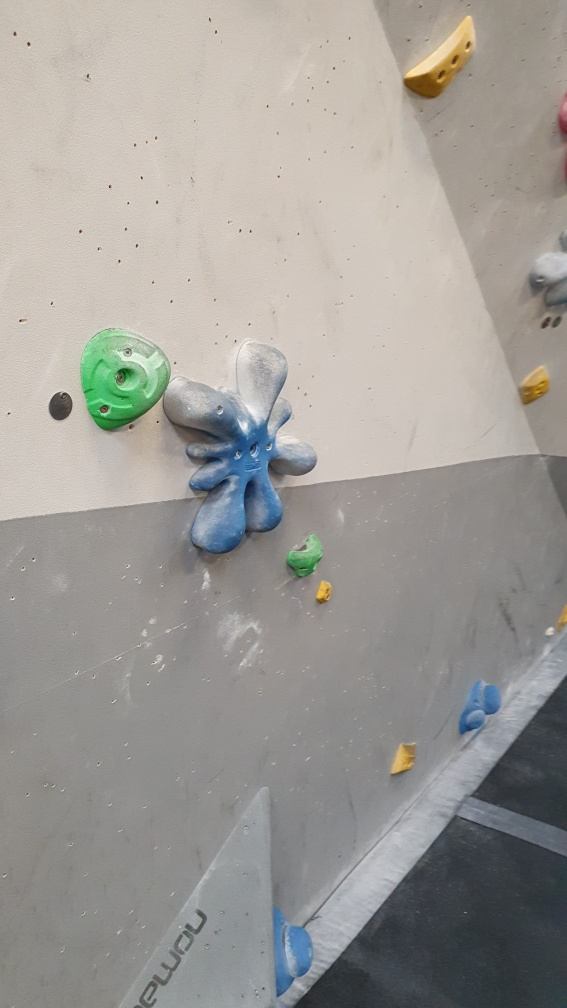Crimp: (398, 15, 480, 95)
Hand Start: (46, 384, 74, 423)
Jug: (78, 318, 170, 435), (288, 533, 323, 581)
Octopus Pinch: (156, 335, 318, 559)
Sloper: (268, 904, 318, 997), (460, 676, 502, 733)
